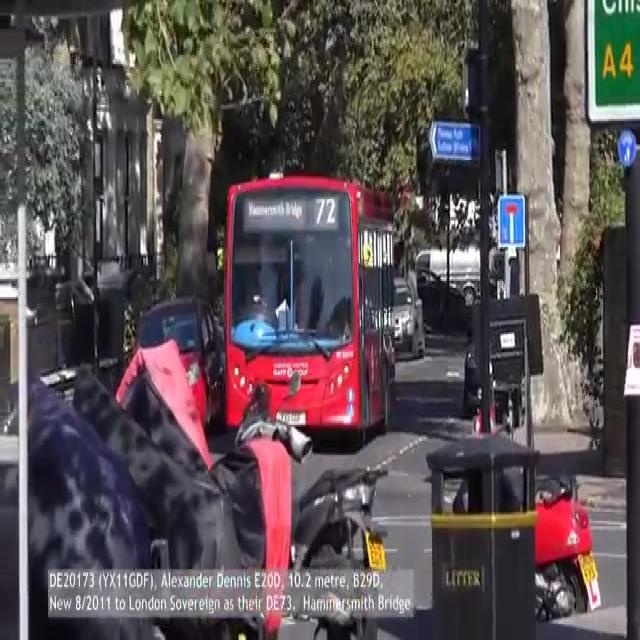Bus: (215, 175, 398, 438)
